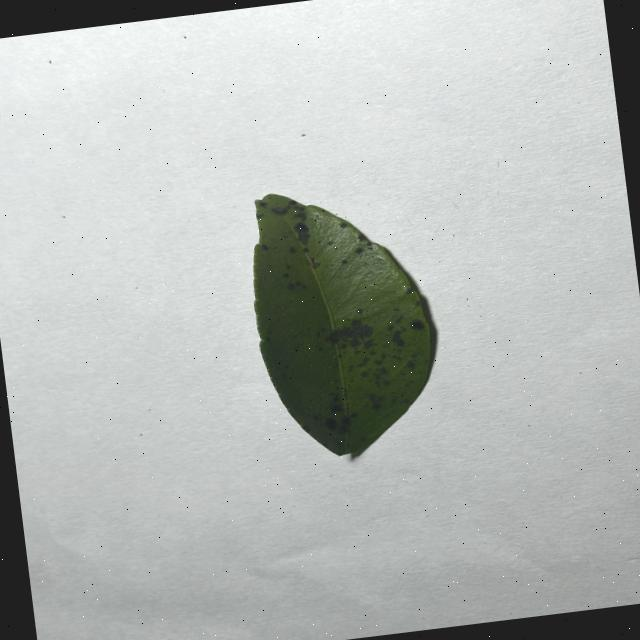sooty_mold: (254, 193, 429, 454)
